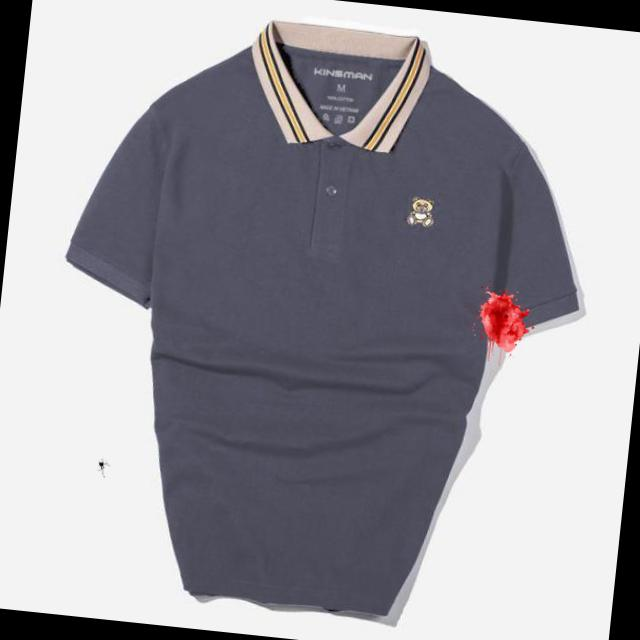stain: (466, 278, 536, 367)
